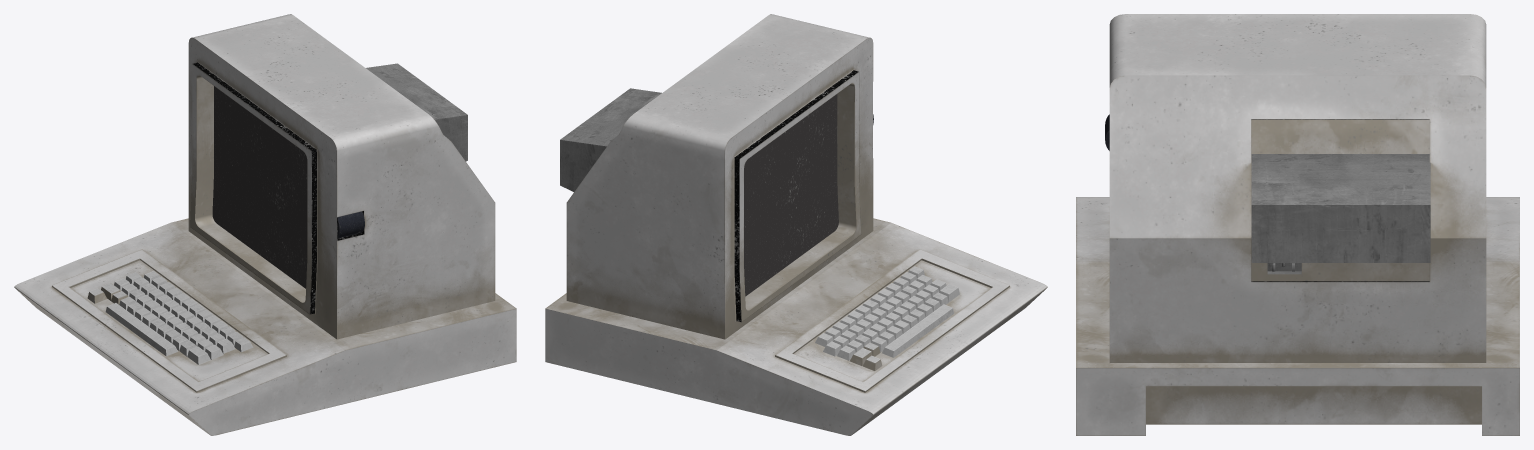
Rendered from computer_pbr.glb.
3 renders of one model, left to right at view 1: azimuth 30°, elevation 25°; view 2: azimuth 150°, elevation 25°; view 3: azimuth 270°, elevation 25°, orthographic. The views are drawn at different scales.
Visible parts, largest first — view 1: Cube; view 2: Cube; view 3: Cube.
Part boxes in pixels (<box>): Cube: <box>14,14,516,435</box>; Cube: <box>545,14,1047,435</box>; Cube: <box>1076,14,1519,435</box>.
Bounding box in the file's own units: 1.92 × 1.33 × 1.67.
1 material, 1 textured.
